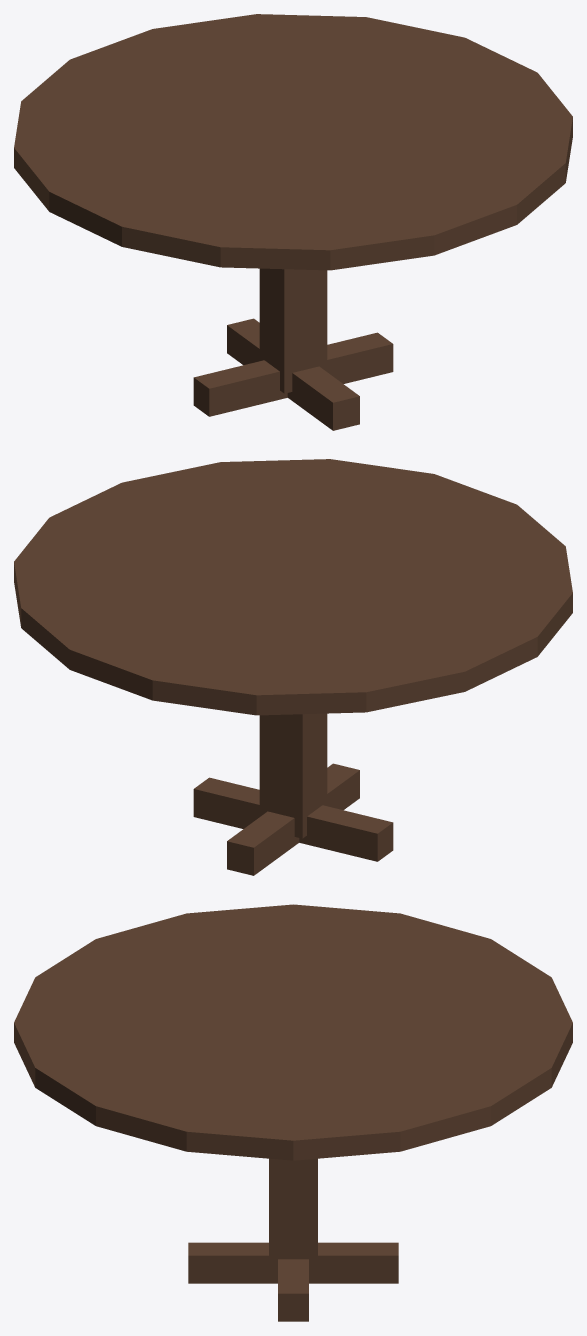
Rendered from stol.glb.
3 renders of one model, top to bottom at view 1: azimuth 30°, elevation 25°; view 2: azimuth 150°, elevation 25°; view 3: azimuth 270°, elevation 25°, orthographic.
Visible parts, largest first — view 1: Cylinder, Cube, Cube.002, Cube.001; view 2: Cylinder, Cube, Cube.002, Cube.001; view 3: Cylinder, Cube.001, Cube, Cube.002.
Boxes of the visible parts, box(x1,y1,x2,y2) form: Cylinder: box(14, 14, 572, 270); Cube: box(259, 268, 327, 393); Cube.002: box(193, 332, 393, 416); Cube.001: box(227, 318, 359, 430); Cylinder: box(14, 459, 572, 715); Cube: box(259, 713, 327, 838); Cube.002: box(193, 777, 393, 861); Cube.001: box(227, 763, 359, 875); Cylinder: box(14, 904, 572, 1160); Cube.001: box(188, 1242, 398, 1283); Cube: box(269, 1158, 317, 1277); Cube.002: box(278, 1259, 308, 1321).
Size of the model in its own units: 3.56 by 1.79 by 3.56.
